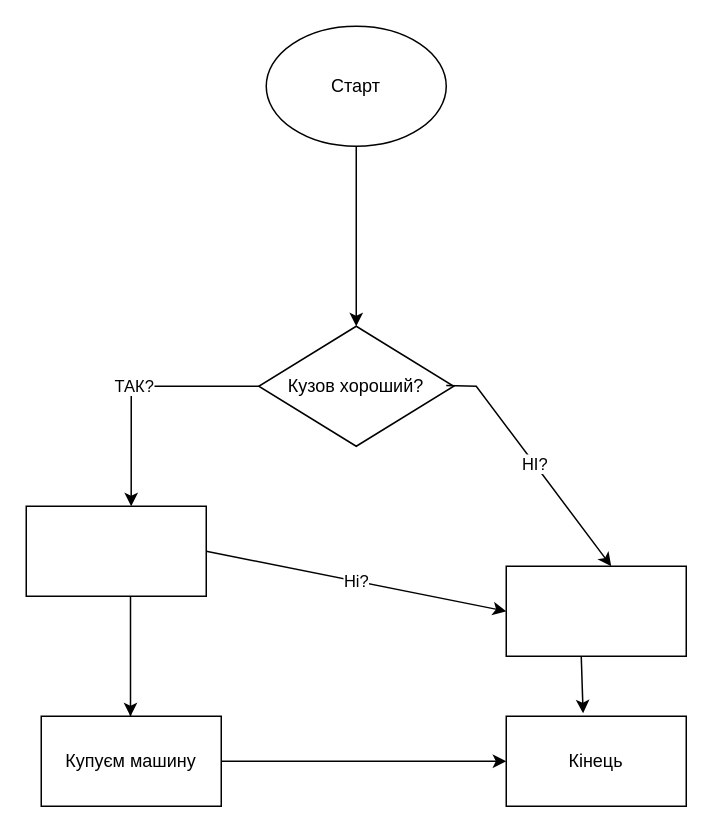
The diagram is 713 pixels wide and 833 high, and some of its shapes have lost their labels. Here are the shapes that lost their labels. From the top down, the centre of each, then its label:
At pixel 115 550: "Двигун хороший?".
At pixel 595 610: "НЕ купуєм машину".
